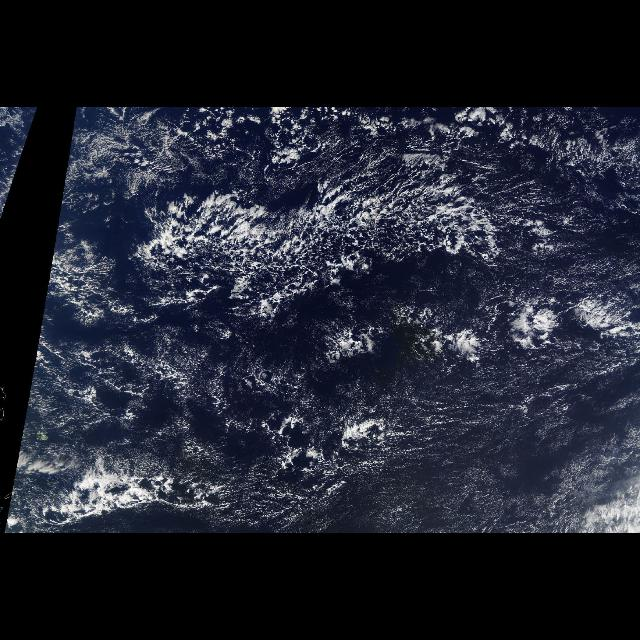Fish: (135, 187, 505, 307)
Gravel: (138, 170, 502, 336)
Sugar: (40, 354, 634, 526)
